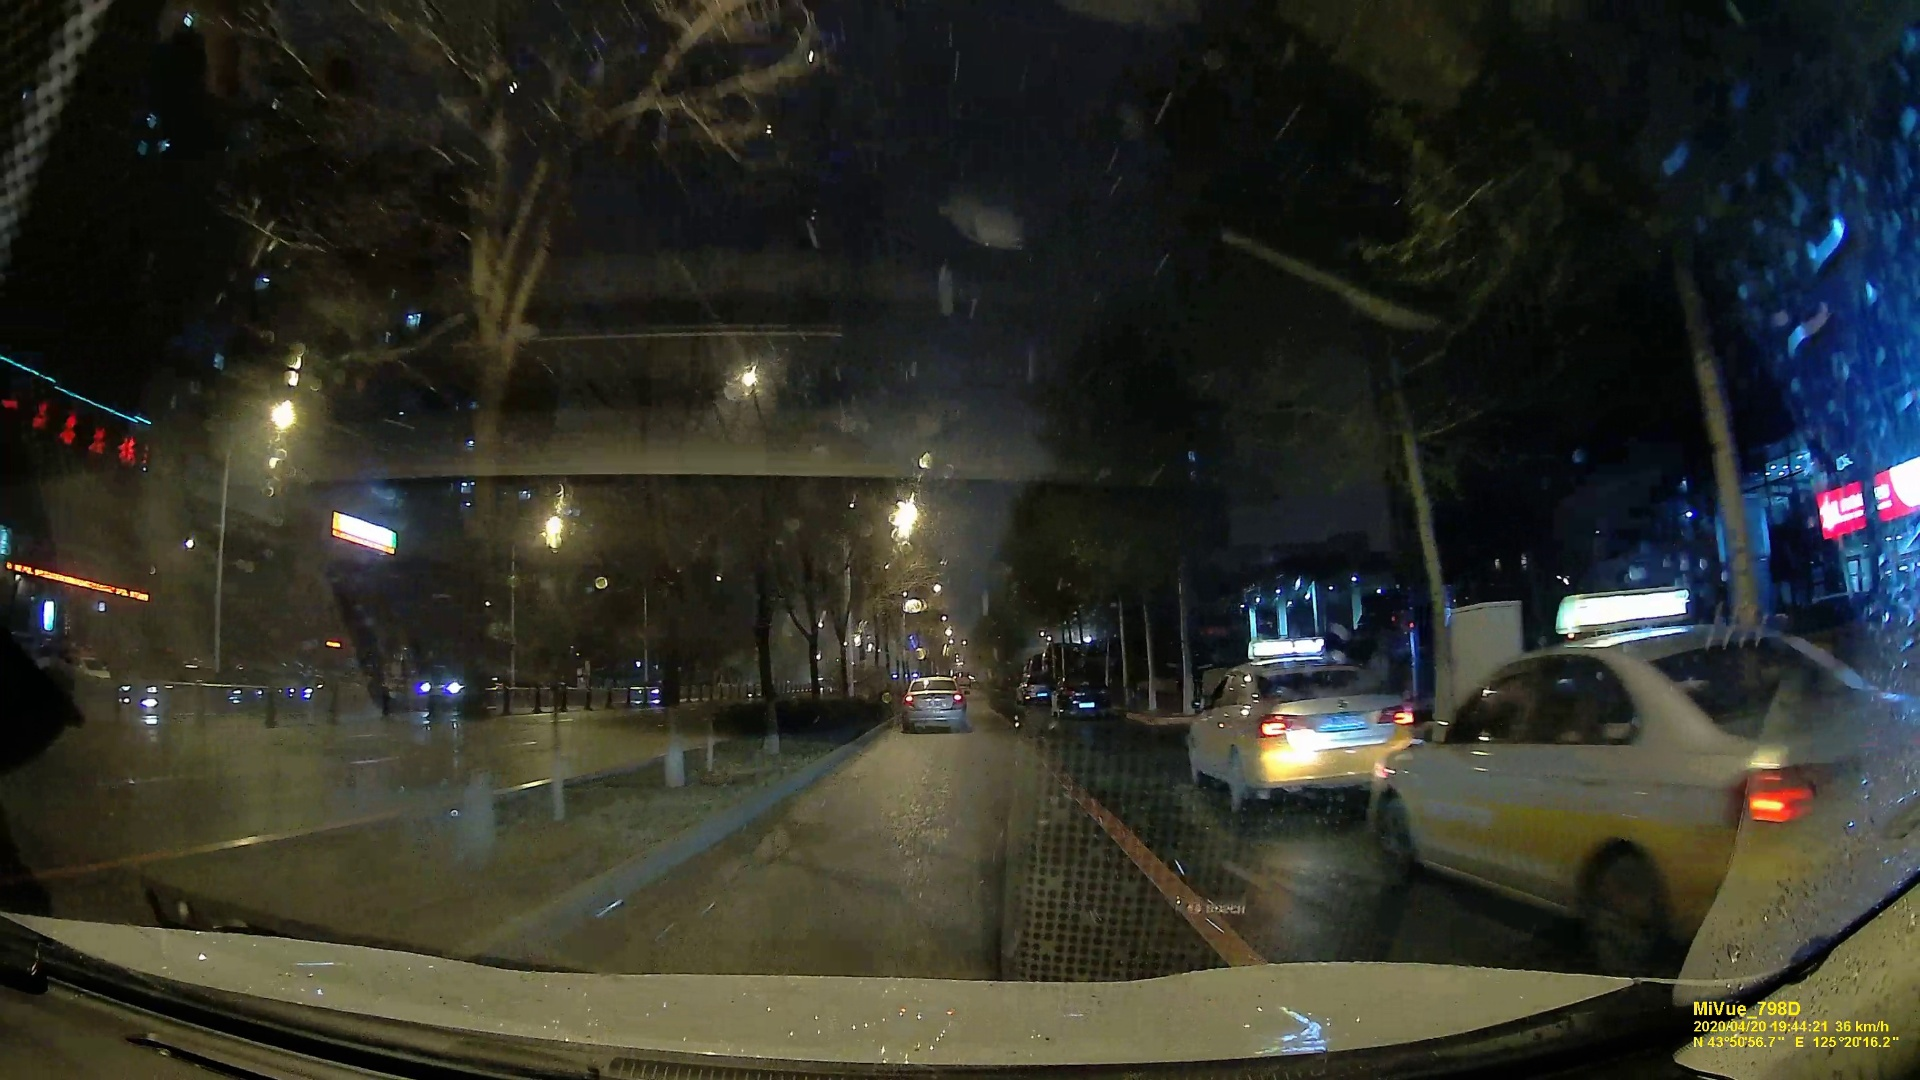vehicle: (1369, 632, 1915, 944), (1184, 650, 1408, 812), (113, 654, 220, 709), (899, 675, 968, 735), (419, 663, 497, 709)
